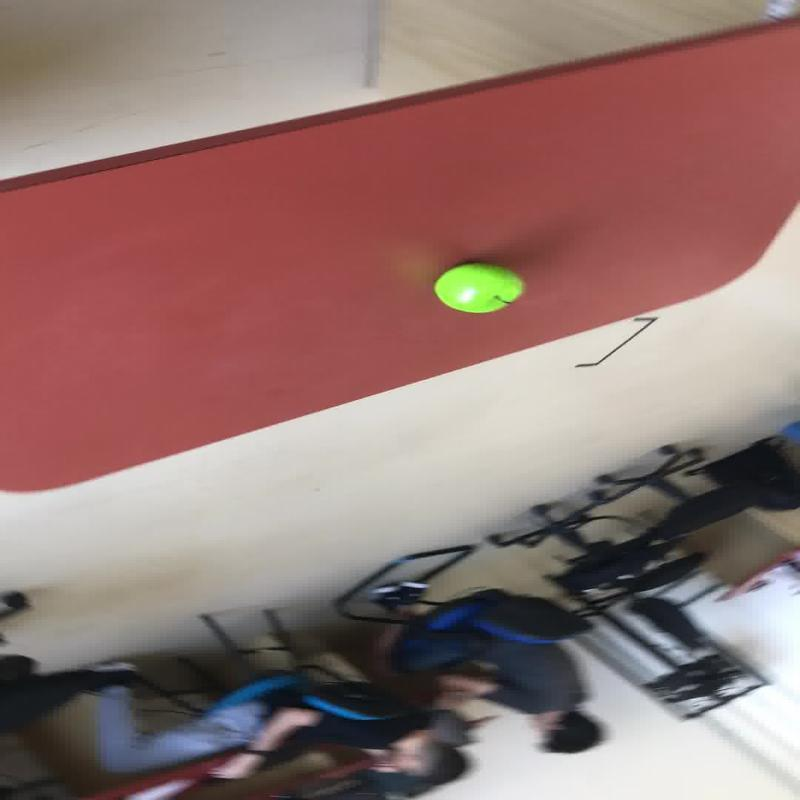apple: (432, 262, 524, 312)
